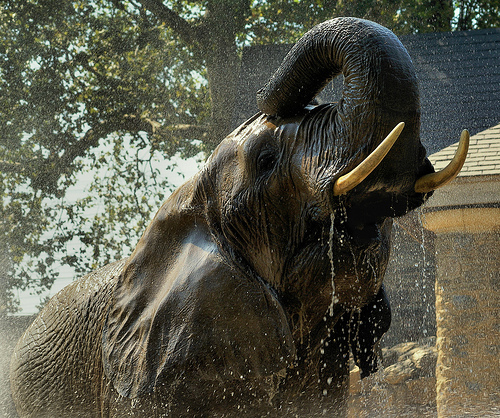elephant: (12, 13, 474, 418)
